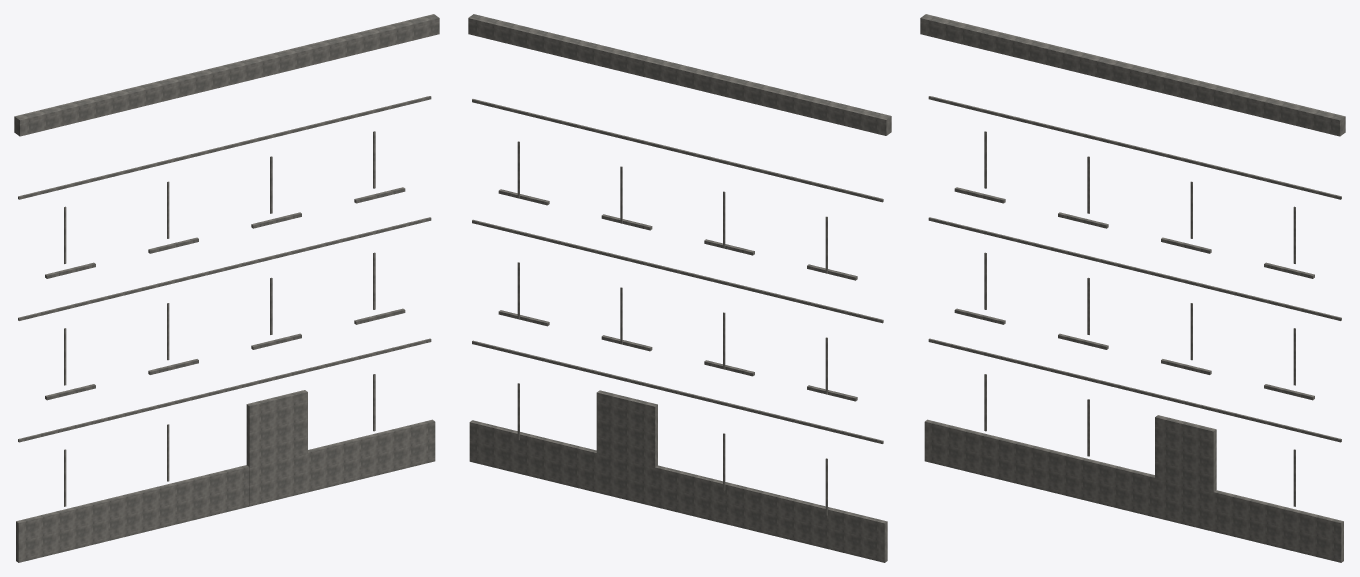
Rendered from Street_BlockL5_Trim.obj.
3 views of the same model, side by side, from view 1: azimuth 30°, elevation 25°; view 2: azimuth 150°, elevation 25°; view 3: azimuth 330°, elevation 25° (orthographic).
Size of the model in its own units: 11.4 by 11.55 by 0.485.
1 material, 1 textured.
